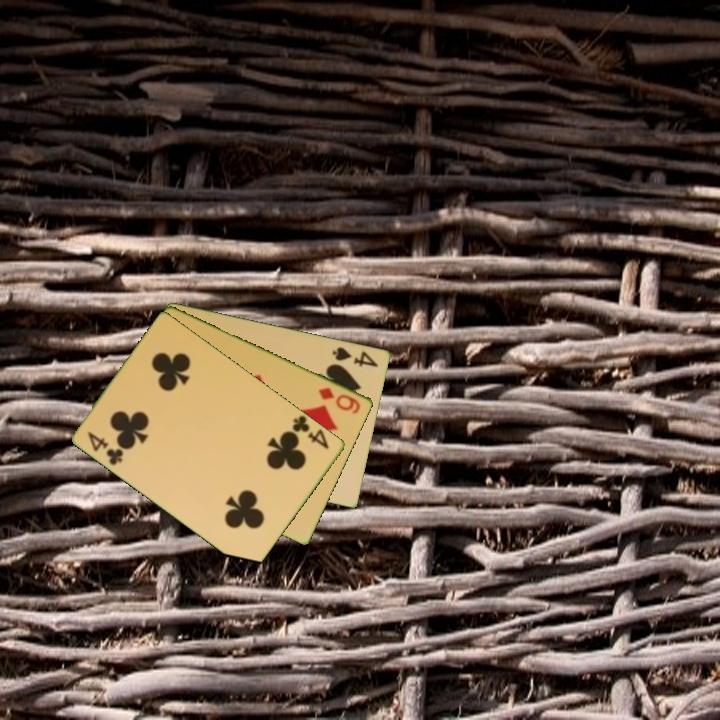4c: (289, 412, 332, 452), (84, 428, 127, 468)
4s: (329, 343, 381, 370)
6d: (315, 383, 364, 417)
